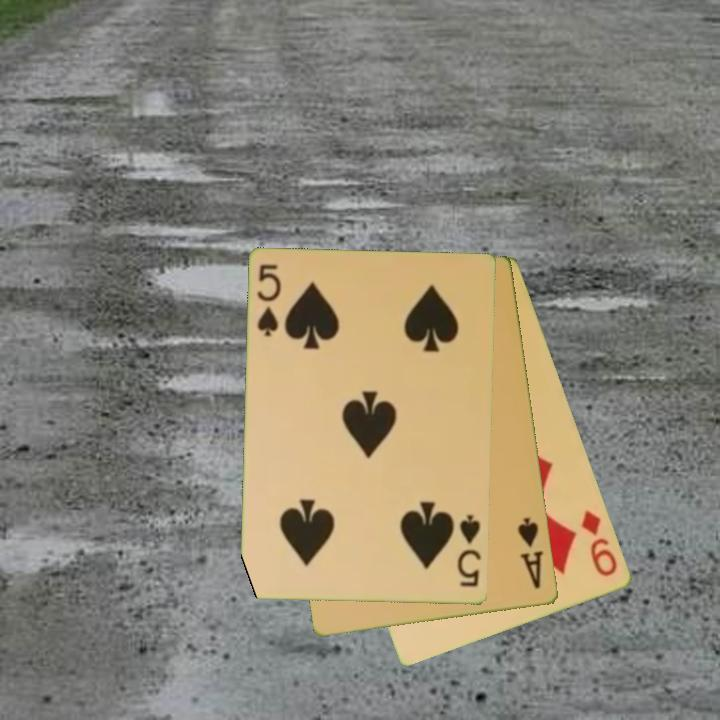5s: (454, 511, 484, 590), (254, 261, 284, 340)
9d: (578, 507, 621, 580)
As: (514, 514, 547, 592)
